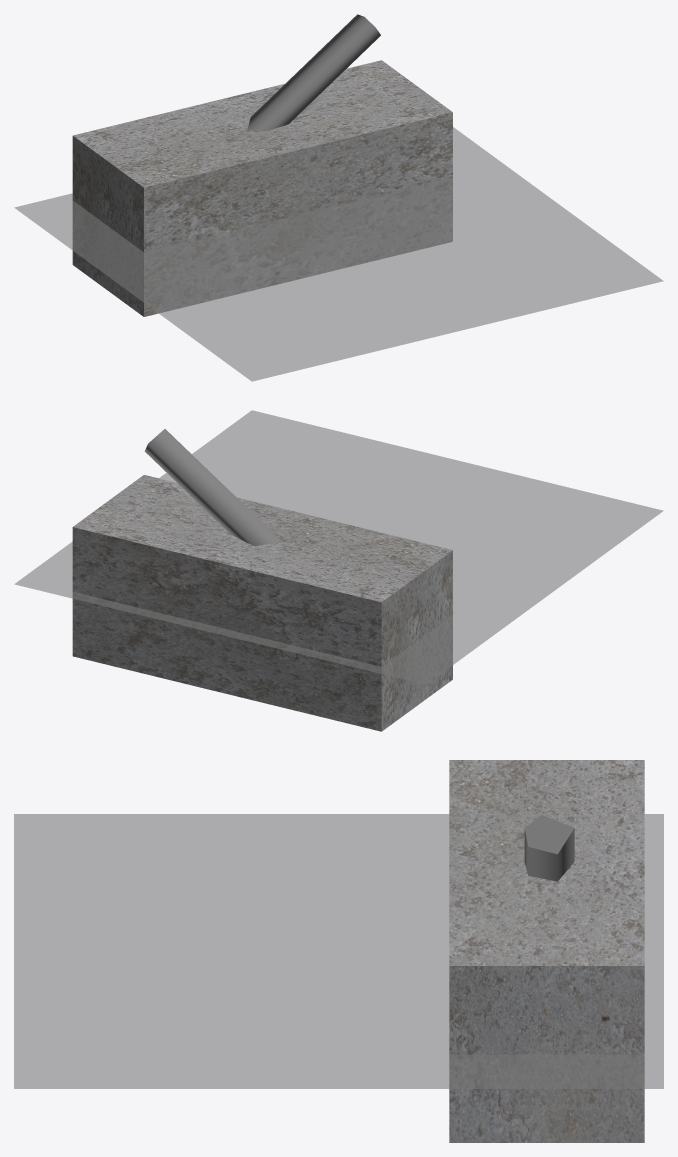
Rendered from ToggleSwitch.fbx.
3 renders of one model, top to bottom at view 1: azimuth 30°, elevation 25°; view 2: azimuth 150°, elevation 25°; view 3: azimuth 270°, elevation 25°, orthographic. The views are drawn at different scales.
Parts seen in each view (by area): view 1: polySurface1; view 2: polySurface1; view 3: polySurface1.
Boxes of the visible parts, x1,y1,x2,y2 form: polySurface1: (14,14,663,381); polySurface1: (14,410,663,731); polySurface1: (14,760,663,1142).
Bounding box in the file's own units: 1 × 0.4952 × 1.
3 materials, 1 textured.
